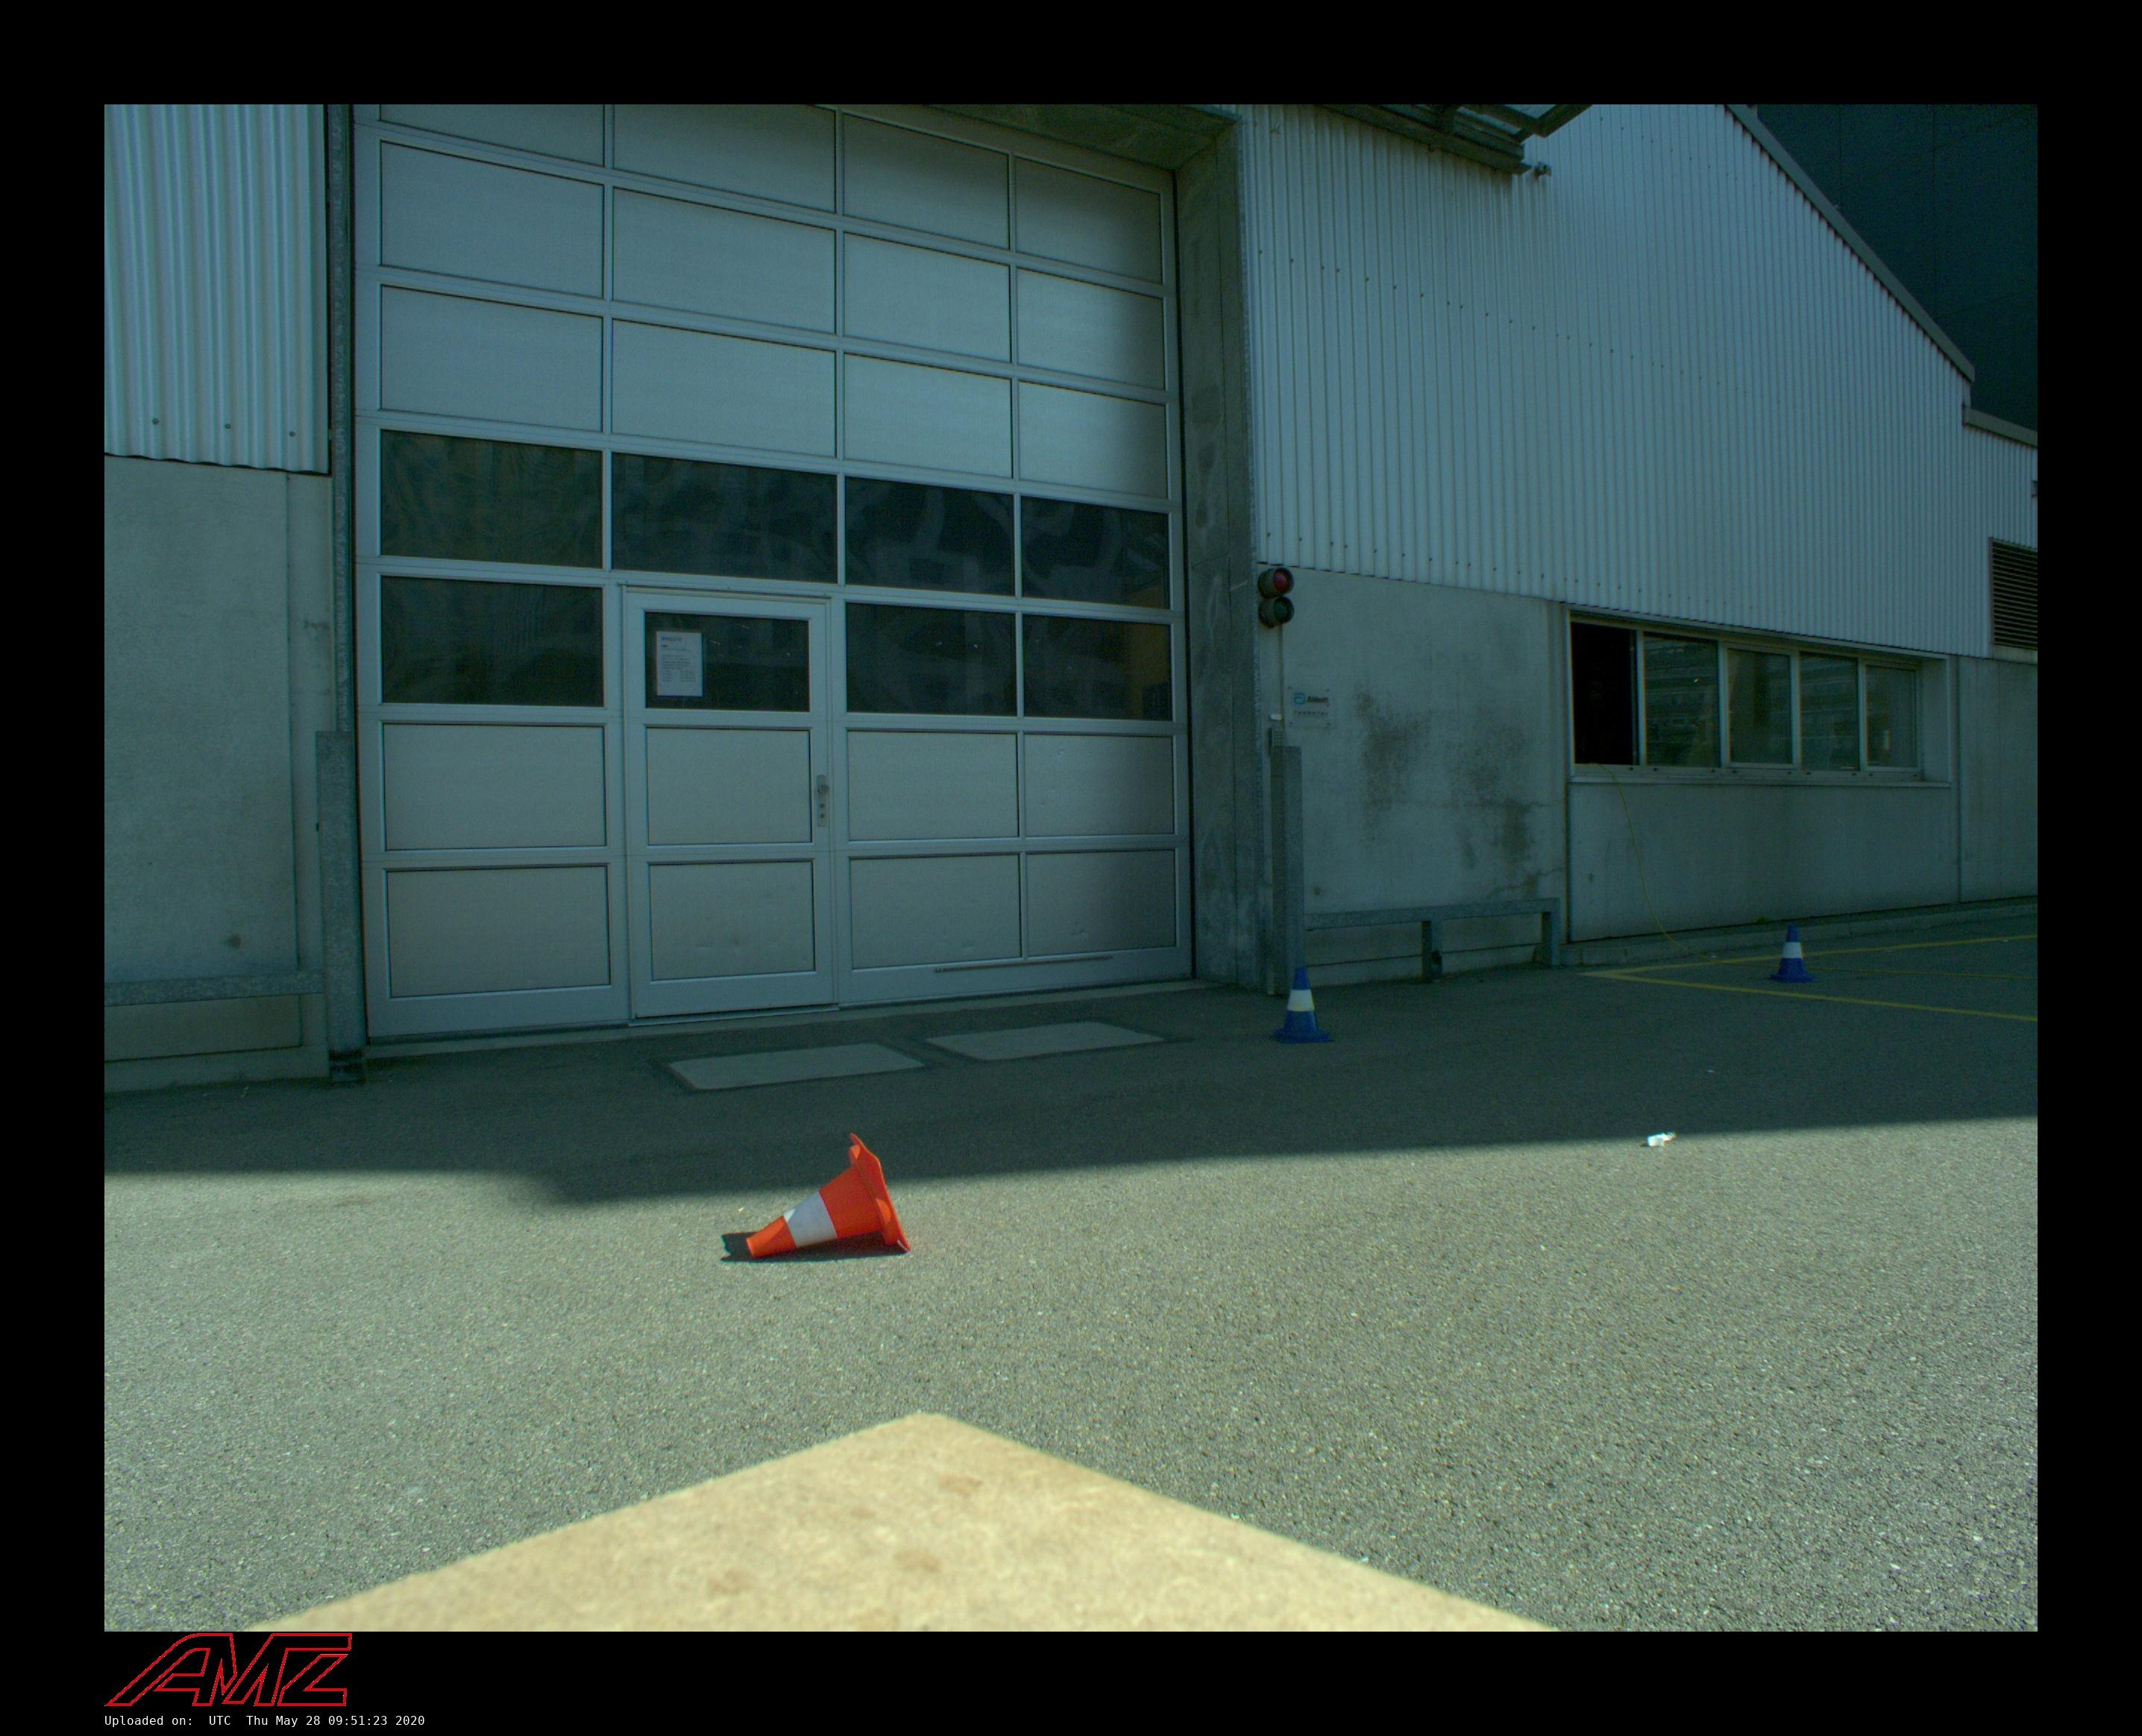blue_cone: (1274, 967, 1329, 1043), (1770, 925, 1816, 983)
orange_cone: (746, 1132, 911, 1258)
